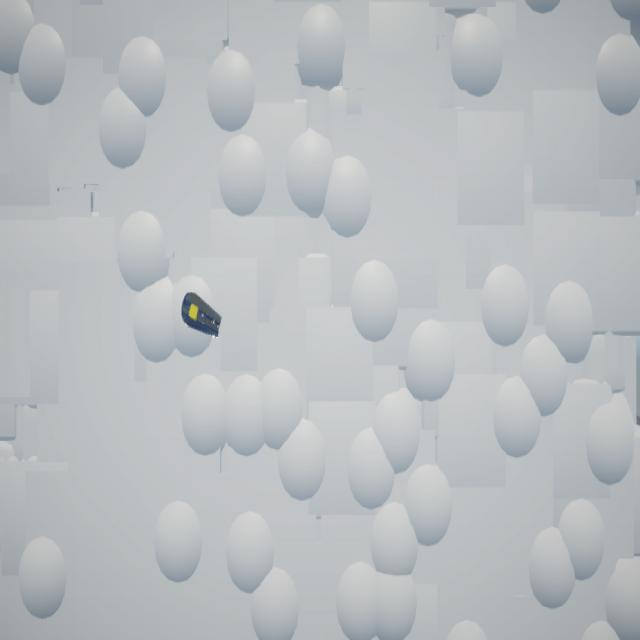handle_folk: (182, 294, 223, 340)
